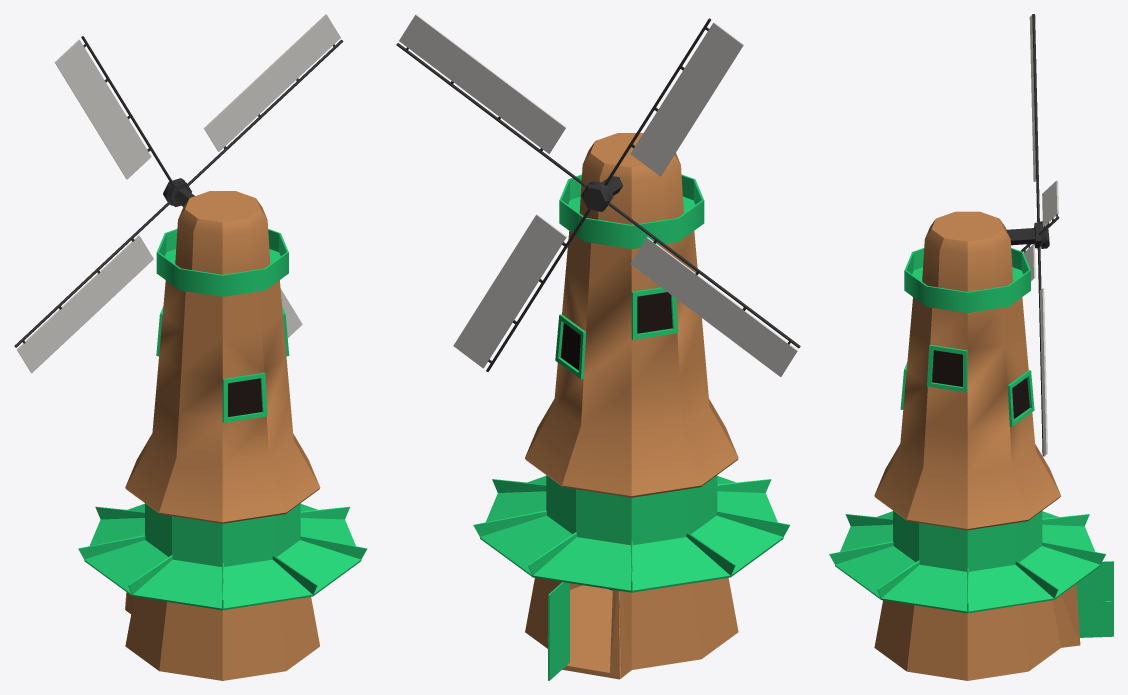
The model's file is windmill.FBX.
The picture shows the model from 3 angles, left to right: view 1: azimuth 30°, elevation 25°; view 2: azimuth 150°, elevation 25°; view 3: azimuth 270°, elevation 25°; orthographic projection. The views are drawn at different scales.
Visible parts, largest first — view 1: Windmill, Palets; view 2: Windmill, Palets, Door, metal structure; view 3: Windmill, Palets, Door, metal structure.
Boxes of the visible parts, x1,y1,x2,y2 form: Windmill: (78,191,367,680); Palets: (14,14,343,373); Windmill: (473,133,789,679); Palets: (396,14,800,376); Door: (547,582,569,680); metal structure: (581,176,623,591); Windmill: (829,211,1106,680); Palets: (1021,14,1059,456); Door: (1076,561,1113,637); metal structure: (1006,221,1049,248).
Bounding box in the file's own units: 1396 × 2311 × 1033.
